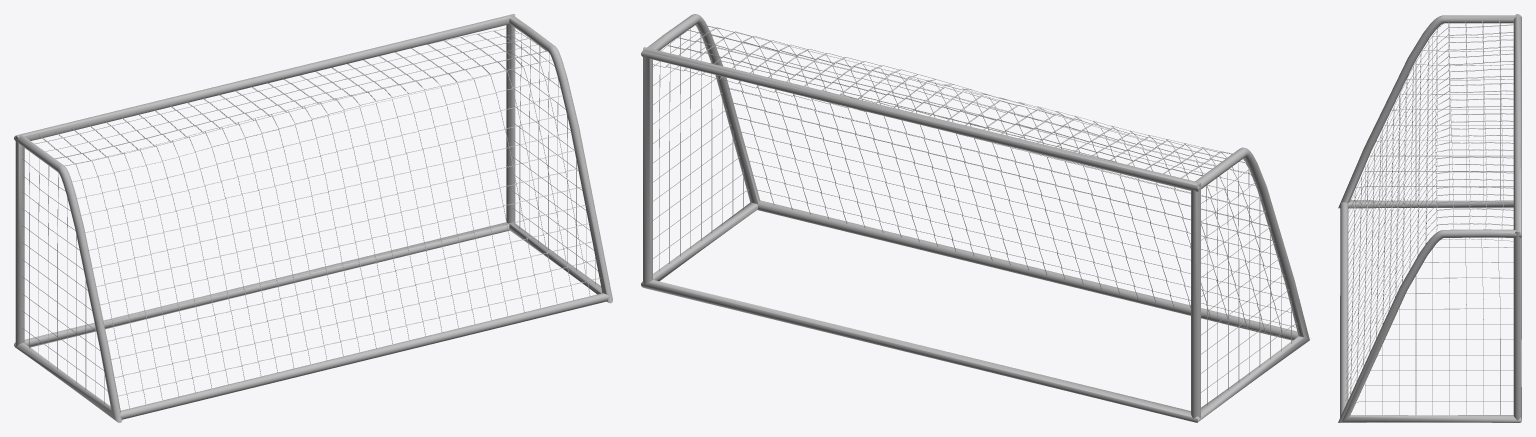
File: football.glb
3 views of the same model, side by side, from view 1: azimuth 30°, elevation 25°; view 2: azimuth 150°, elevation 25°; view 3: azimuth 270°, elevation 25° (orthographic). The views are drawn at different scales.
Visible parts, largest first — view 1: Frame, Net; view 2: Frame, Net; view 3: Net, Frame.
Part boxes in pixels (x1,y1,x2,y2): Frame: (14, 14, 612, 422); Net: (22, 28, 600, 408); Frame: (641, 14, 1309, 422); Net: (651, 24, 1300, 405); Net: (1345, 19, 1513, 415); Frame: (1338, 14, 1521, 422).
Bounding box in the file's own units: 508 × 209 × 181.
1 material, 1 textured.
